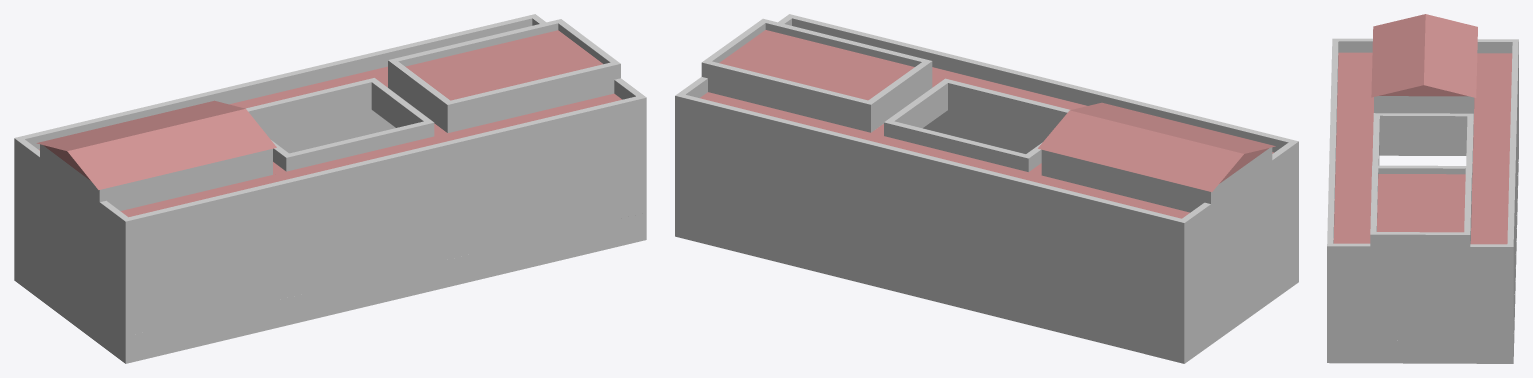
File: LOD_Block_3_23.glb
3 views of the same model, side by side, from view 1: azimuth 30°, elevation 25°; view 2: azimuth 150°, elevation 25°; view 3: azimuth 270°, elevation 25° (orthographic). The views are drawn at different scales.
Visible parts, largest first — view 1: mesh_CityEngineMaterial_463; view 2: mesh_CityEngineMaterial_463; view 3: mesh_CityEngineMaterial_463.
Boxes of the visible parts, x1,y1,x2,y2 form: mesh_CityEngineMaterial_463: [14, 14, 646, 363]; mesh_CityEngineMaterial_463: [675, 14, 1298, 363]; mesh_CityEngineMaterial_463: [1327, 14, 1518, 363].
Bounding box in the file's own units: 39.66 × 12.45 × 15.36.
